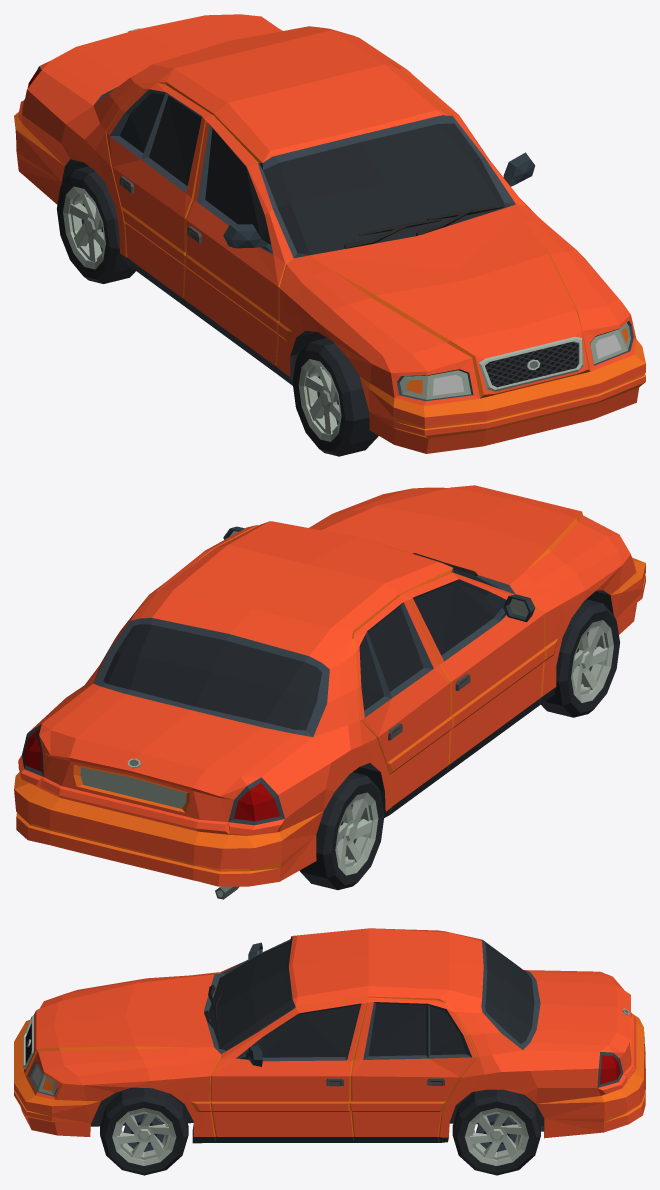
The model's file is Sedan_Orange.fbx.
3 renders of one model, top to bottom at view 1: azimuth 30°, elevation 25°; view 2: azimuth 150°, elevation 25°; view 3: azimuth 270°, elevation 25°, orthographic. The views are drawn at different scales.
Visible parts, largest first — view 1: SM_Veh_Car_Sedan_01.002, SM_Veh_Car_Sedan_Wheel_fr.002, SM_Veh_Car_Sedan_Wheel_rr.002; view 2: SM_Veh_Car_Sedan_01.002, SM_Veh_Car_Sedan_Wheel_rr.002, SM_Veh_Car_Sedan_Wheel_fr.002; view 3: SM_Veh_Car_Sedan_01.002, SM_Veh_Car_Sedan_Wheel_fl.002, SM_Veh_Car_Sedan_Wheel_rl.002.
Part boxes in pixels (x1,y1,x2,y2): SM_Veh_Car_Sedan_01.002: (14,14,645,453); SM_Veh_Car_Sedan_Wheel_fr.002: (292,338,378,456); SM_Veh_Car_Sedan_Wheel_rr.002: (57,166,135,283); SM_Veh_Car_Sedan_01.002: (14,485,645,899); SM_Veh_Car_Sedan_Wheel_rr.002: (299,772,384,890); SM_Veh_Car_Sedan_Wheel_fr.002: (541,599,620,717); SM_Veh_Car_Sedan_01.002: (14,928,645,1143); SM_Veh_Car_Sedan_Wheel_fl.002: (100,1087,188,1175); SM_Veh_Car_Sedan_Wheel_rl.002: (452,1089,540,1175).
Bounding box in the file's own units: 2.25 × 1.59 × 5.34.
